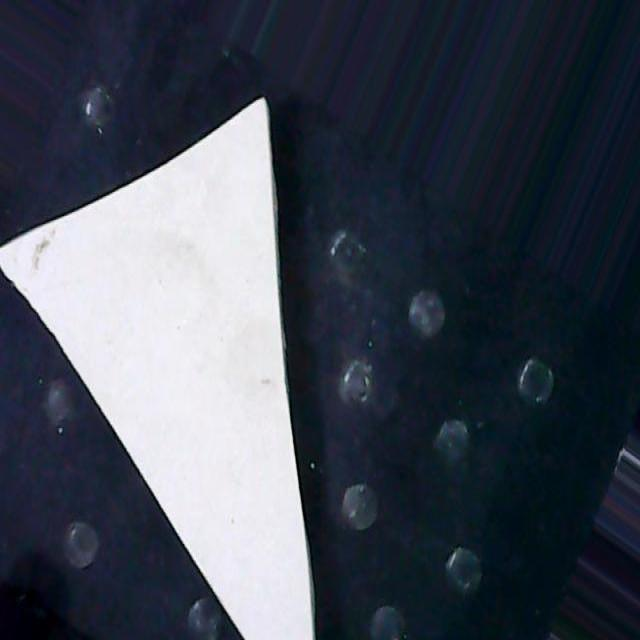-Other waste - ceramic-: (0, 91, 315, 640)
